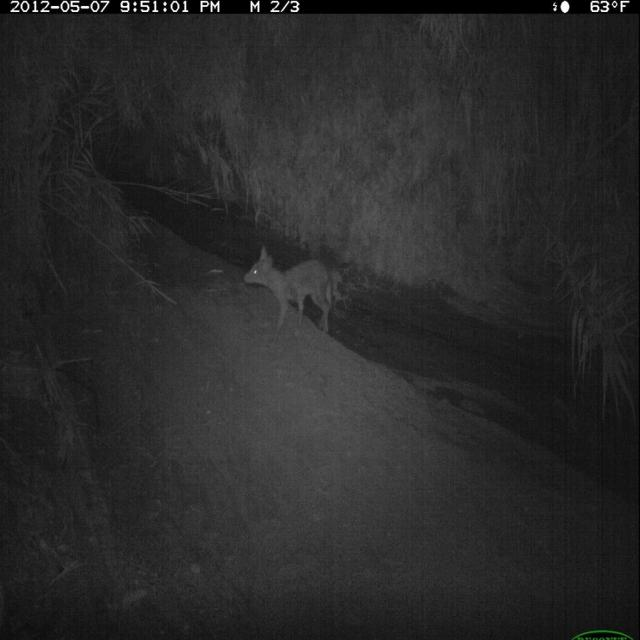coyote: (241, 240, 340, 350)
